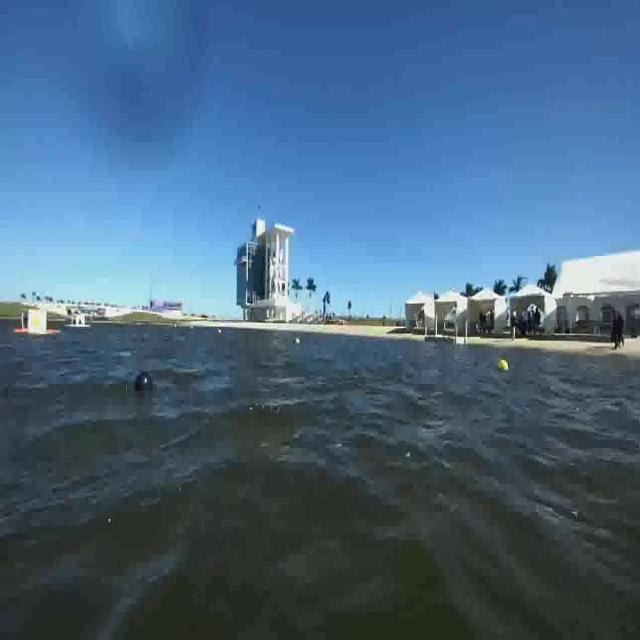black-buoy: (134, 367, 155, 403)
yellow-buoy: (498, 356, 509, 373)
